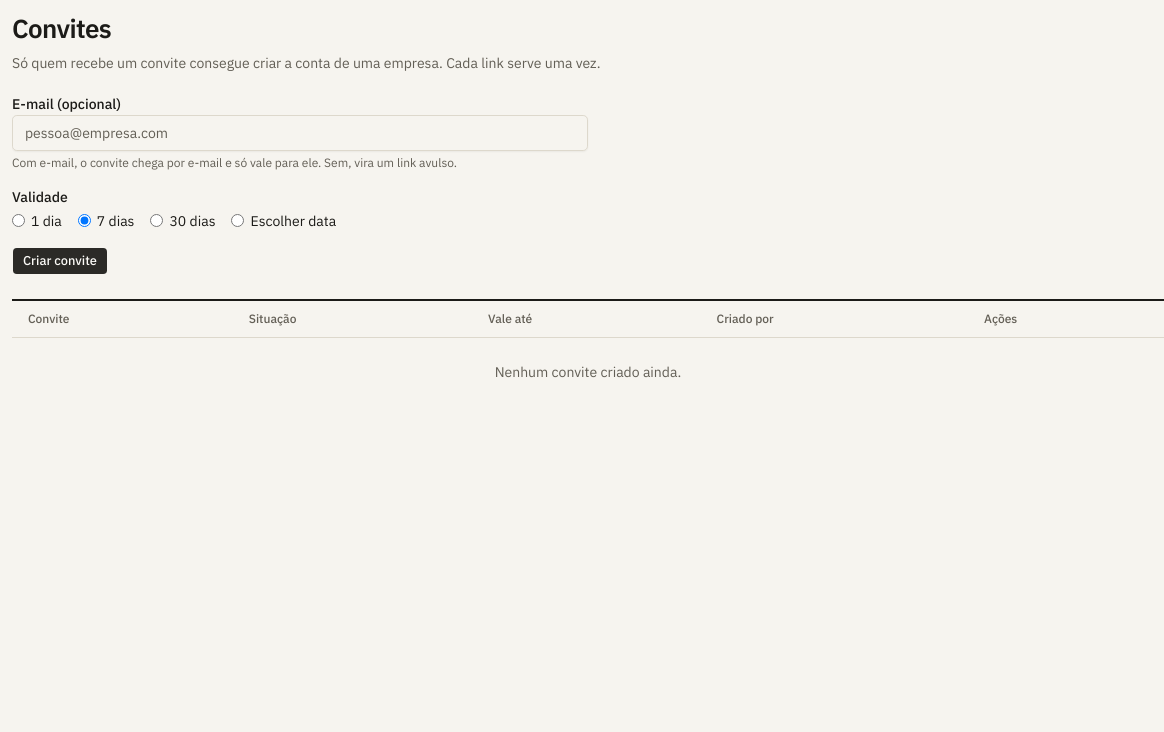
Test: B51-03 — Convite por e-mail na tela › CA-B51-18: should avisar que o e-mail não saiu e mostrar o link para mandar por outro meio
The width and height of the screenshot is (1164, 732).
Type "caio@exemplo.com" into the field labelled "E-mail (opcional)" at (300, 132), box [12,114,588,150]
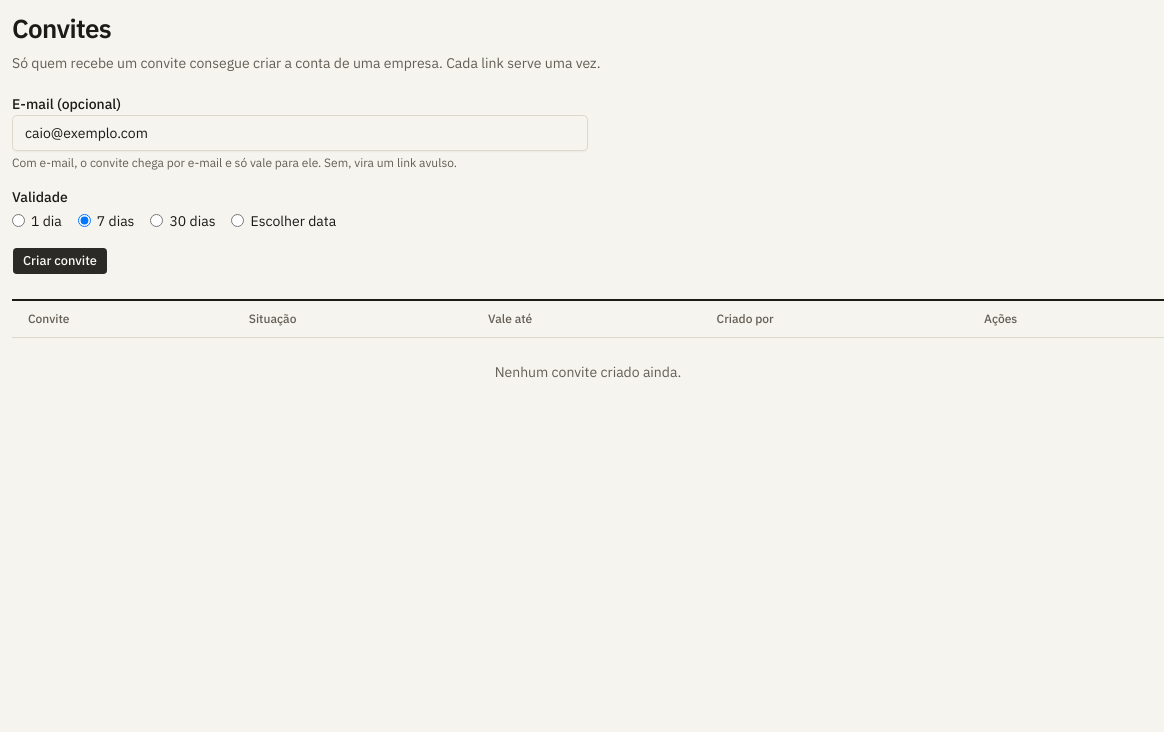
Click the button "Criar convite" at (60, 260), box [12,246,108,274]
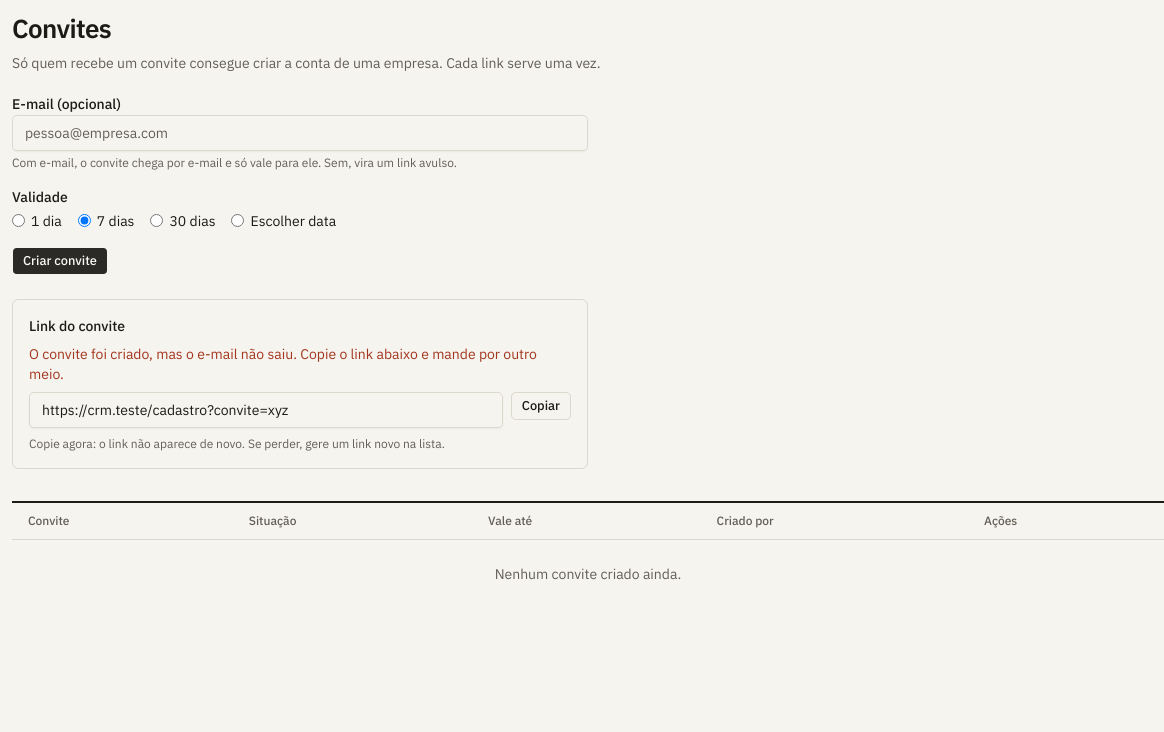
Check: the message shows "O convite foi criado, mas o e-mail não saiu. Copie o link abaixo e mande por outro meio.", box [29,344,537,382]
Check: the field named "Link do convite" holds "https://crm.teste/cadastro?convite=xyz", box [29,392,503,428]
